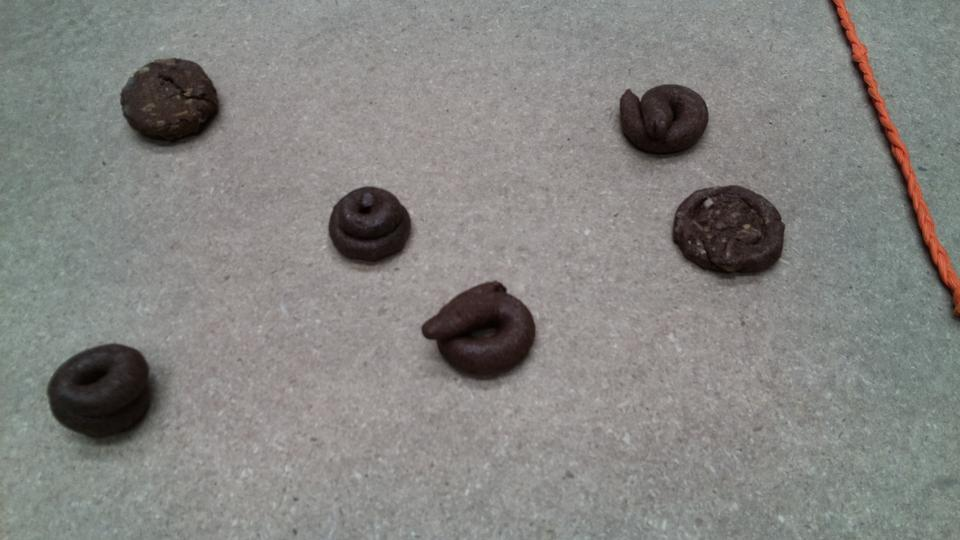poop: (418, 277, 541, 386), (668, 179, 789, 282), (43, 338, 156, 445), (118, 54, 222, 150), (617, 79, 715, 160), (324, 182, 415, 268)
rope: (834, 1, 960, 311)
